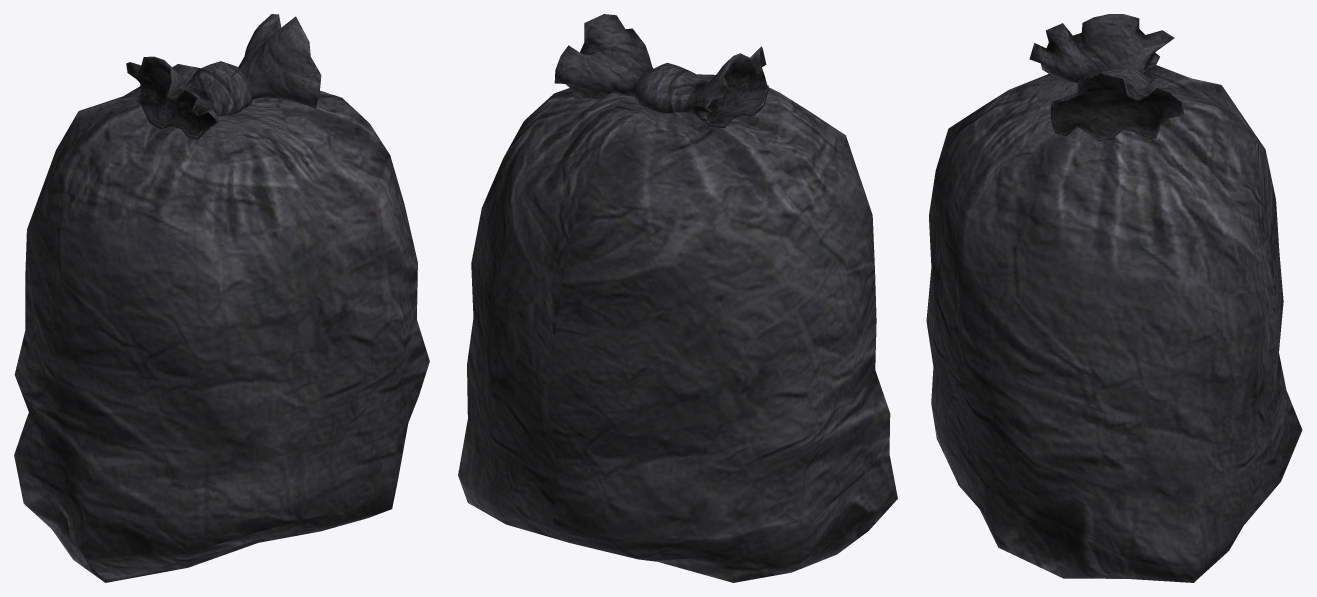
The model's file is garbageBag01.FBX.
The picture shows the model from 3 angles, left to right: view 1: azimuth 30°, elevation 25°; view 2: azimuth 150°, elevation 25°; view 3: azimuth 270°, elevation 25°; orthographic projection.
Parts seen in each view (by area): view 1: SM_GarbageBag01; view 2: SM_GarbageBag01; view 3: SM_GarbageBag01.
Boxes of the visible parts, <box> form: SM_GarbageBag01: <box>14,14,429,582</box>; SM_GarbageBag01: <box>458,14,897,582</box>; SM_GarbageBag01: <box>926,14,1302,582</box>.
Bounding box in the file's own units: 42.88 × 53.9 × 38.38.
Materials: 1 (1 with a texture image).
